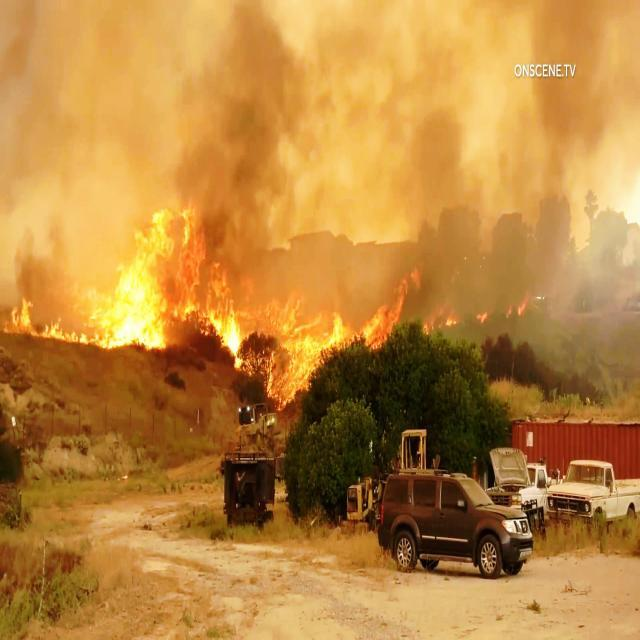Fire: (252, 278, 413, 405), (105, 202, 199, 346), (6, 294, 102, 349), (422, 292, 531, 334), (208, 286, 240, 365)
Smoke: (296, 12, 640, 284), (0, 5, 104, 292), (202, 31, 290, 268), (104, 2, 198, 200)
